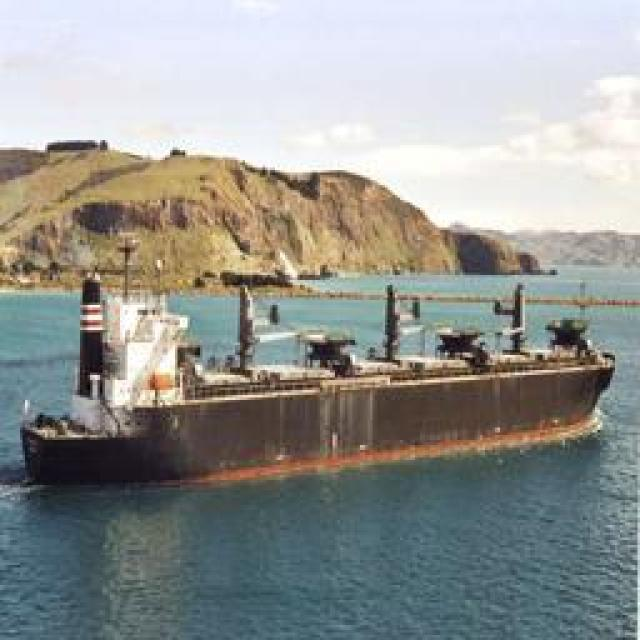ship2: (19, 281, 615, 485)
